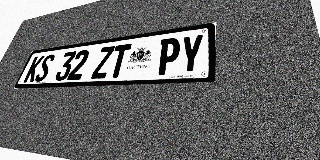2: (67, 49, 90, 80)
3: (54, 51, 77, 81)
K: (23, 55, 45, 83)
P: (155, 37, 181, 75)
S: (33, 54, 56, 82)
T: (107, 44, 132, 78)
Y: (178, 34, 204, 74)
Z: (91, 46, 115, 79)
